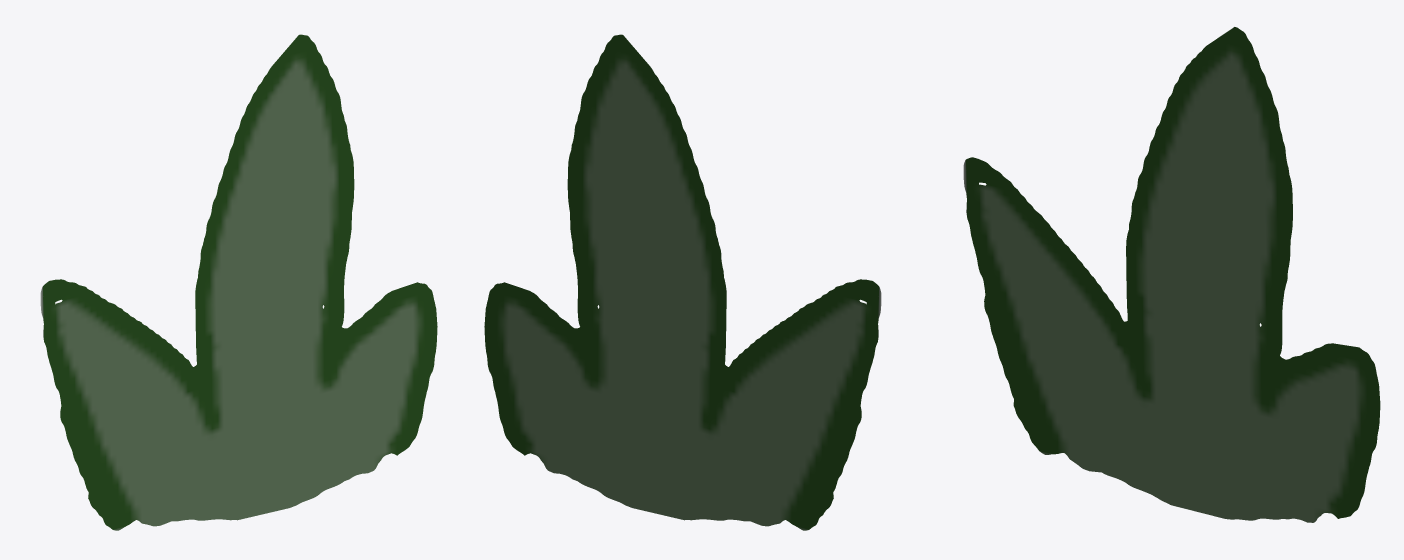
Rendered from grass001_mesh.fbx.
The picture shows the model from 3 angles, left to right: view 1: azimuth 30°, elevation 25°; view 2: azimuth 150°, elevation 25°; view 3: azimuth 330°, elevation 25°; orthographic projection. The views are drawn at different scales.
Parts seen in each view (by area): view 1: grass001; view 2: grass001; view 3: grass001.
Part boxes in pixels (box(x1,y1,x2,y2)): grass001: box(40, 34, 437, 530); grass001: box(484, 34, 881, 530); grass001: box(963, 27, 1380, 522).
Size of the model in its own units: 33.29 by 35.97 by 2.2e-15.
